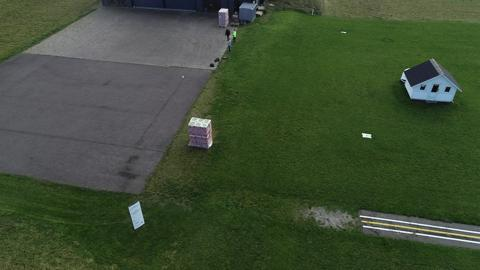RockwoolPallet: (218, 7, 230, 28)
